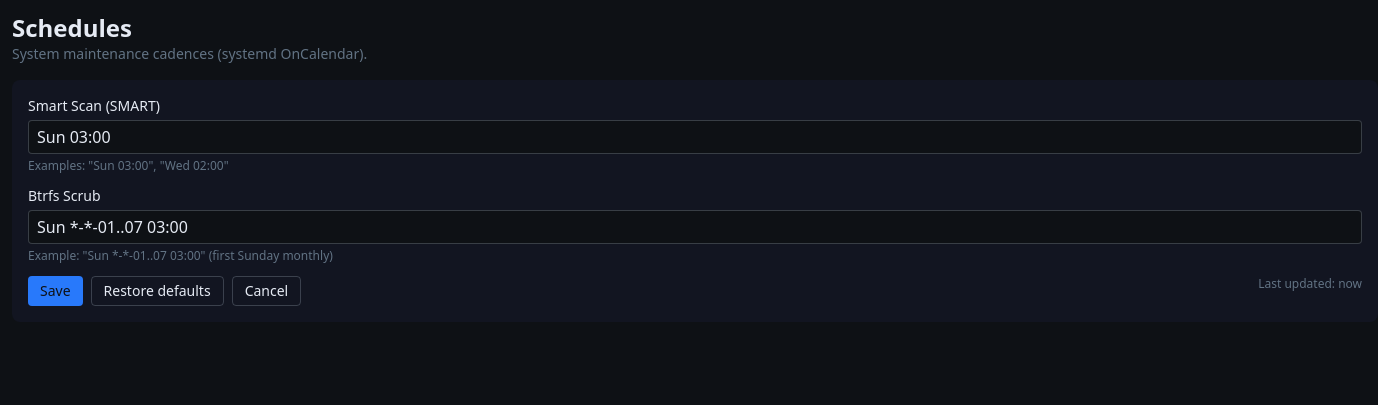
SettingsSchedules (route) › renders inline hint on 422 schedule.invalid for btrfsScrub
Expected: the field with placeholder "Sun 03:00" below "Smart Scan (SMART)" is shown, [28,120,1362,154]
Click the button "Save": (55, 291) [28,276,83,306]
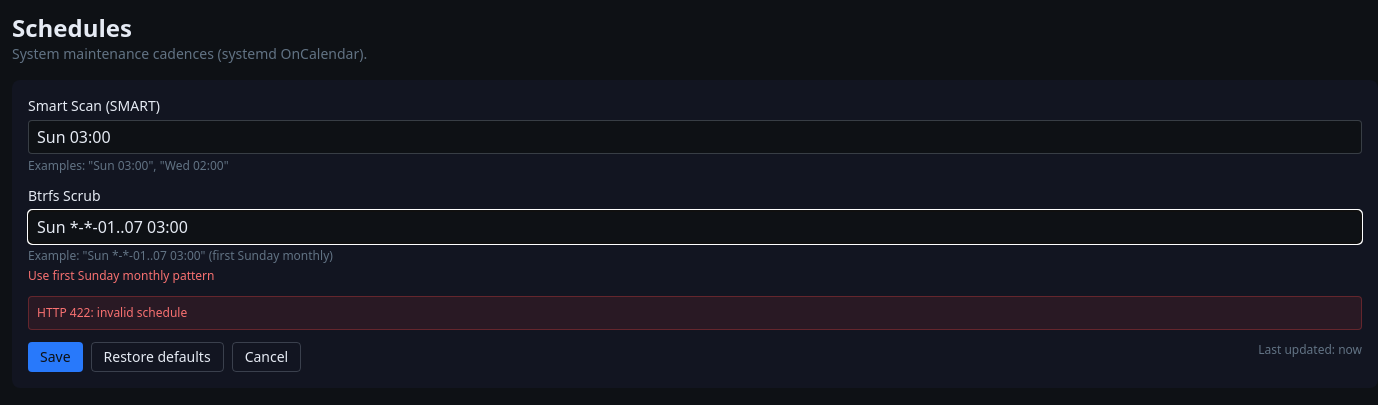
Expected: the text "Use first Sunday monthly pattern" is shown, [28,267,214,284]
